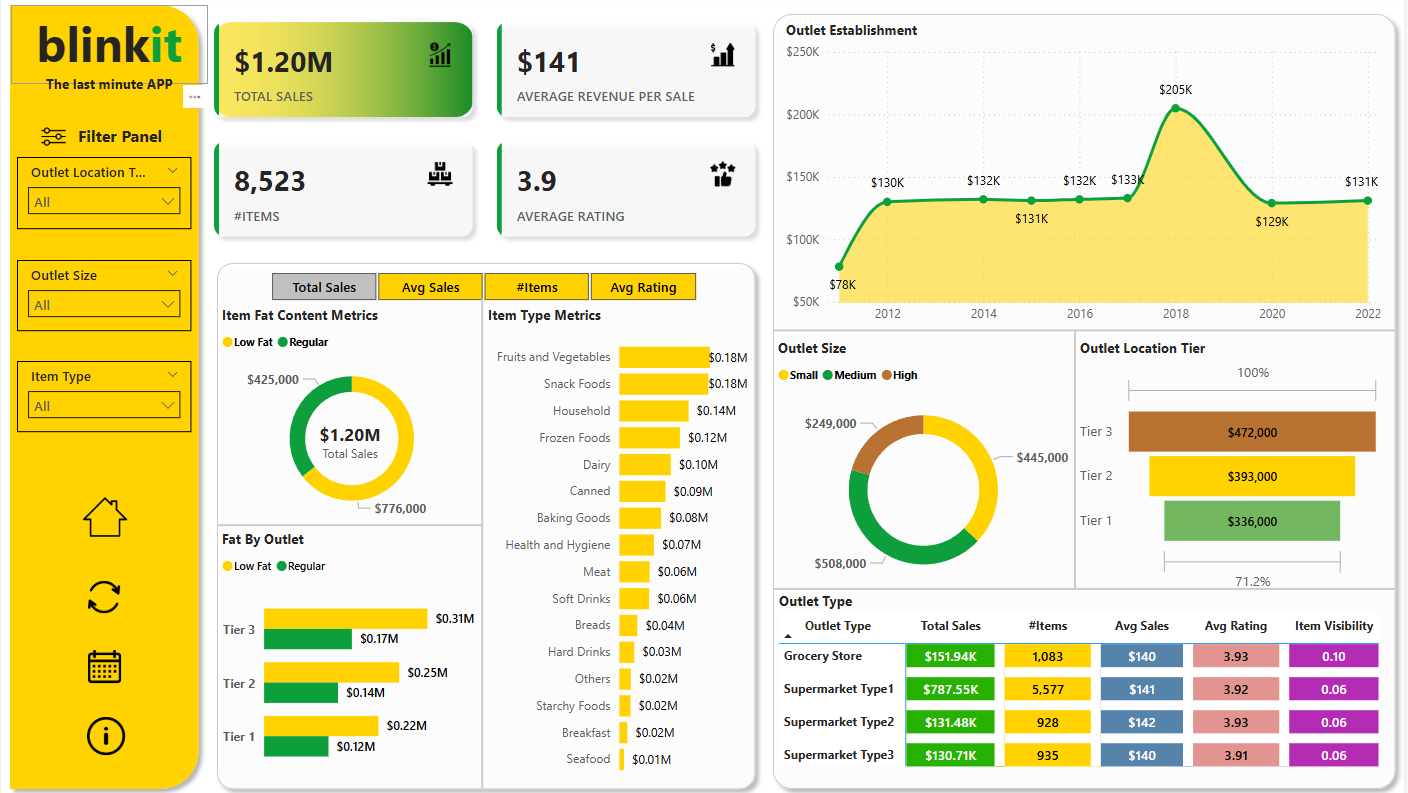

This screenshot's page, from the dashboard's own definition file:
{"tool":"powerbi","page":{"name":"Page 1","canvas":[1400,800],"ordinal":0},"visuals":[{"type":"shape","box":[0,0,206.2,800],"z":0},{"type":"textbox","box":[10,8.8,196.2,78.8],"z":1000},{"type":"textbox","box":[10,73.8,196.2,27.5],"z":2000},{"type":"cardVisual","fields":{"Data":["Independent Measures.Total Sales","Independent Measures.Avg Sales","Independent Measures.#Items","Independent Measures.Avg Rating"]},"box":[195.6,8.8,574.7,248.4],"z":3000},{"type":"shape","box":[206.6,257.1,554.9,542.9],"z":4000},{"type":"donutChart","title":"Item Fat Content Metrics","fields":{"Y":["Independent Measures.Total Sales 3sf"],"Category":["BlinkIT Grocery Data.Item Fat Content"]},"box":[215.6,308.9,268.9,220],"z":5000},{"type":"slicer","fields":{"Values":["Metrics.Metrics"]},"box":[244,269.2,472.5,39.6],"z":6000},{"type":"cardVisual","fields":{"Data":["Independent Measures.Total Sales 3sf"]},"box":[285.6,395.6,126.7,97.8],"z":7000},{"type":"clusteredBarChart","title":"Fat By Outlet","fields":{"Y":["Independent Measures.Total Sales 3sf"],"Category":["BlinkIT Grocery Data.Outlet Location Type"],"Series":["BlinkIT Grocery Data.Item Fat Content"]},"box":[215,532.9,262.1,254.3],"z":8000},{"type":"shape","box":[215.5,508.8,265,38.2],"z":9000},{"type":"shape","box":[469.6,302.4,20.4,488.4],"z":10000},{"type":"barChart","title":"Item Type Metrics","fields":{"Y":["Independent Measures.Total Sales 3sf"],"Category":["BlinkIT Grocery Data.Item Type"]},"box":[481.1,308.9,268.9,478.9],"z":11000},{"type":"shape","box":[761.1,8.9,638.9,791.1],"z":12000},{"type":"lineChart","title":"Outlet Establishment ","fields":{"Y":["Independent Measures.Total Sales 3sf"],"Category":["BlinkIT Grocery Data.Outlet Establishment Year"]},"box":[777.8,24.4,603.3,310],"z":13000},{"type":"donutChart","title":"Outlet Size","fields":{"Y":["Independent Measures.Total Sales 3sf"],"Category":["BlinkIT Grocery Data.Outlet Size"]},"box":[770,342.2,300,256.7],"z":14000},{"type":"funnel","title":"Outlet Location Tier","fields":{"Y":["Independent Measures.Total Sales 3sf"],"Category":["BlinkIT Grocery Data.Outlet Location Type"]},"box":[1071.1,342.2,310,256.7],"z":15000},{"type":"shape","box":[1061.1,334.4,20,256.7],"z":16000},{"type":"shape","box":[771.1,315.6,621.1,36.7],"z":17000},{"type":"shape","box":[771.1,572.2,621.1,37.8],"z":18000},{"type":"pivotTable","title":"Outlet Type","fields":{"Rows":["BlinkIT Grocery Data.Outlet Type"],"Values":["Independent Measures.Total Sales","Independent Measures.#Items","Independent Measures.Avg Sales","Independent Measures.Avg Rating","Avg(BlinkIT Grocery Data.Item Visibility)"]},"box":[771.1,594.4,610,196.7],"z":19000},{"type":"slicer","fields":{"Values":["BlinkIT Grocery Data.Outlet Location Type"]},"box":[15.8,160.8,174.2,71.7],"z":20000},{"type":"slicer","fields":{"Values":["BlinkIT Grocery Data.Outlet Size"]},"box":[15.8,263.3,174.2,70.8],"z":21000},{"type":"slicer","fields":{"Values":["BlinkIT Grocery Data.Item Type"]},"box":[15.8,364.2,174.2,70.8],"z":22000},{"type":"image","box":[18.3,120,68.3,40.8],"z":23000},{"type":"textbox","box":[71.7,124.2,115.8,33.3],"z":24000},{"type":"image","box":[76.7,492.2,54.4,55.6],"z":25000},{"type":"image","box":[80,578.3,45.8,41.7],"z":26000},{"type":"image","box":[81.7,644.2,42.5,48.3],"z":27000},{"type":"image","box":[78.9,714.4,52.2,47.8],"z":28000},{"type":"actionButton","box":[80.2,649.1,55.5,40.1],"z":30000}]}

Visuals, with their boxes in screenshot pixels (x1, y1, x2, y2), scaled from the page's 1400x800 canvas onto the 1408x793 screenshot:
shape: (0, 0, 207, 792)
textbox: (10, 9, 207, 87)
textbox: (10, 73, 207, 100)
cardVisual - Independent Measures.Total Sales x Independent Measures.Avg Sales: (197, 9, 775, 255)
shape: (208, 255, 766, 792)
"Item Fat Content Metrics" donutChart: (217, 306, 487, 524)
slicer - Metrics.Metrics: (245, 267, 721, 306)
cardVisual - Independent Measures.Total Sales 3sf: (287, 392, 415, 489)
"Fat By Outlet" clusteredBarChart: (216, 528, 480, 780)
shape: (217, 504, 483, 542)
shape: (472, 300, 493, 784)
"Item Type Metrics" barChart: (484, 306, 754, 781)
shape: (765, 9, 1407, 792)
"Outlet Establishment " lineChart: (782, 24, 1389, 331)
"Outlet Size" donutChart: (774, 339, 1076, 594)
"Outlet Location Tier" funnel: (1077, 339, 1389, 594)
shape: (1067, 331, 1087, 586)
shape: (776, 313, 1400, 349)
shape: (776, 567, 1400, 605)
"Outlet Type" pivotTable: (776, 589, 1389, 784)
slicer - BlinkIT Grocery Data.Outlet Location Type: (16, 159, 191, 230)
slicer - BlinkIT Grocery Data.Outlet Size: (16, 261, 191, 331)
slicer - BlinkIT Grocery Data.Item Type: (16, 361, 191, 431)
image: (18, 119, 87, 159)
textbox: (72, 123, 189, 156)
image: (77, 488, 132, 543)
image: (80, 573, 127, 615)
image: (82, 639, 125, 686)
image: (79, 708, 132, 756)
actionButton: (81, 643, 136, 683)
